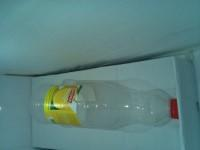bottle: (27, 80, 183, 129)
